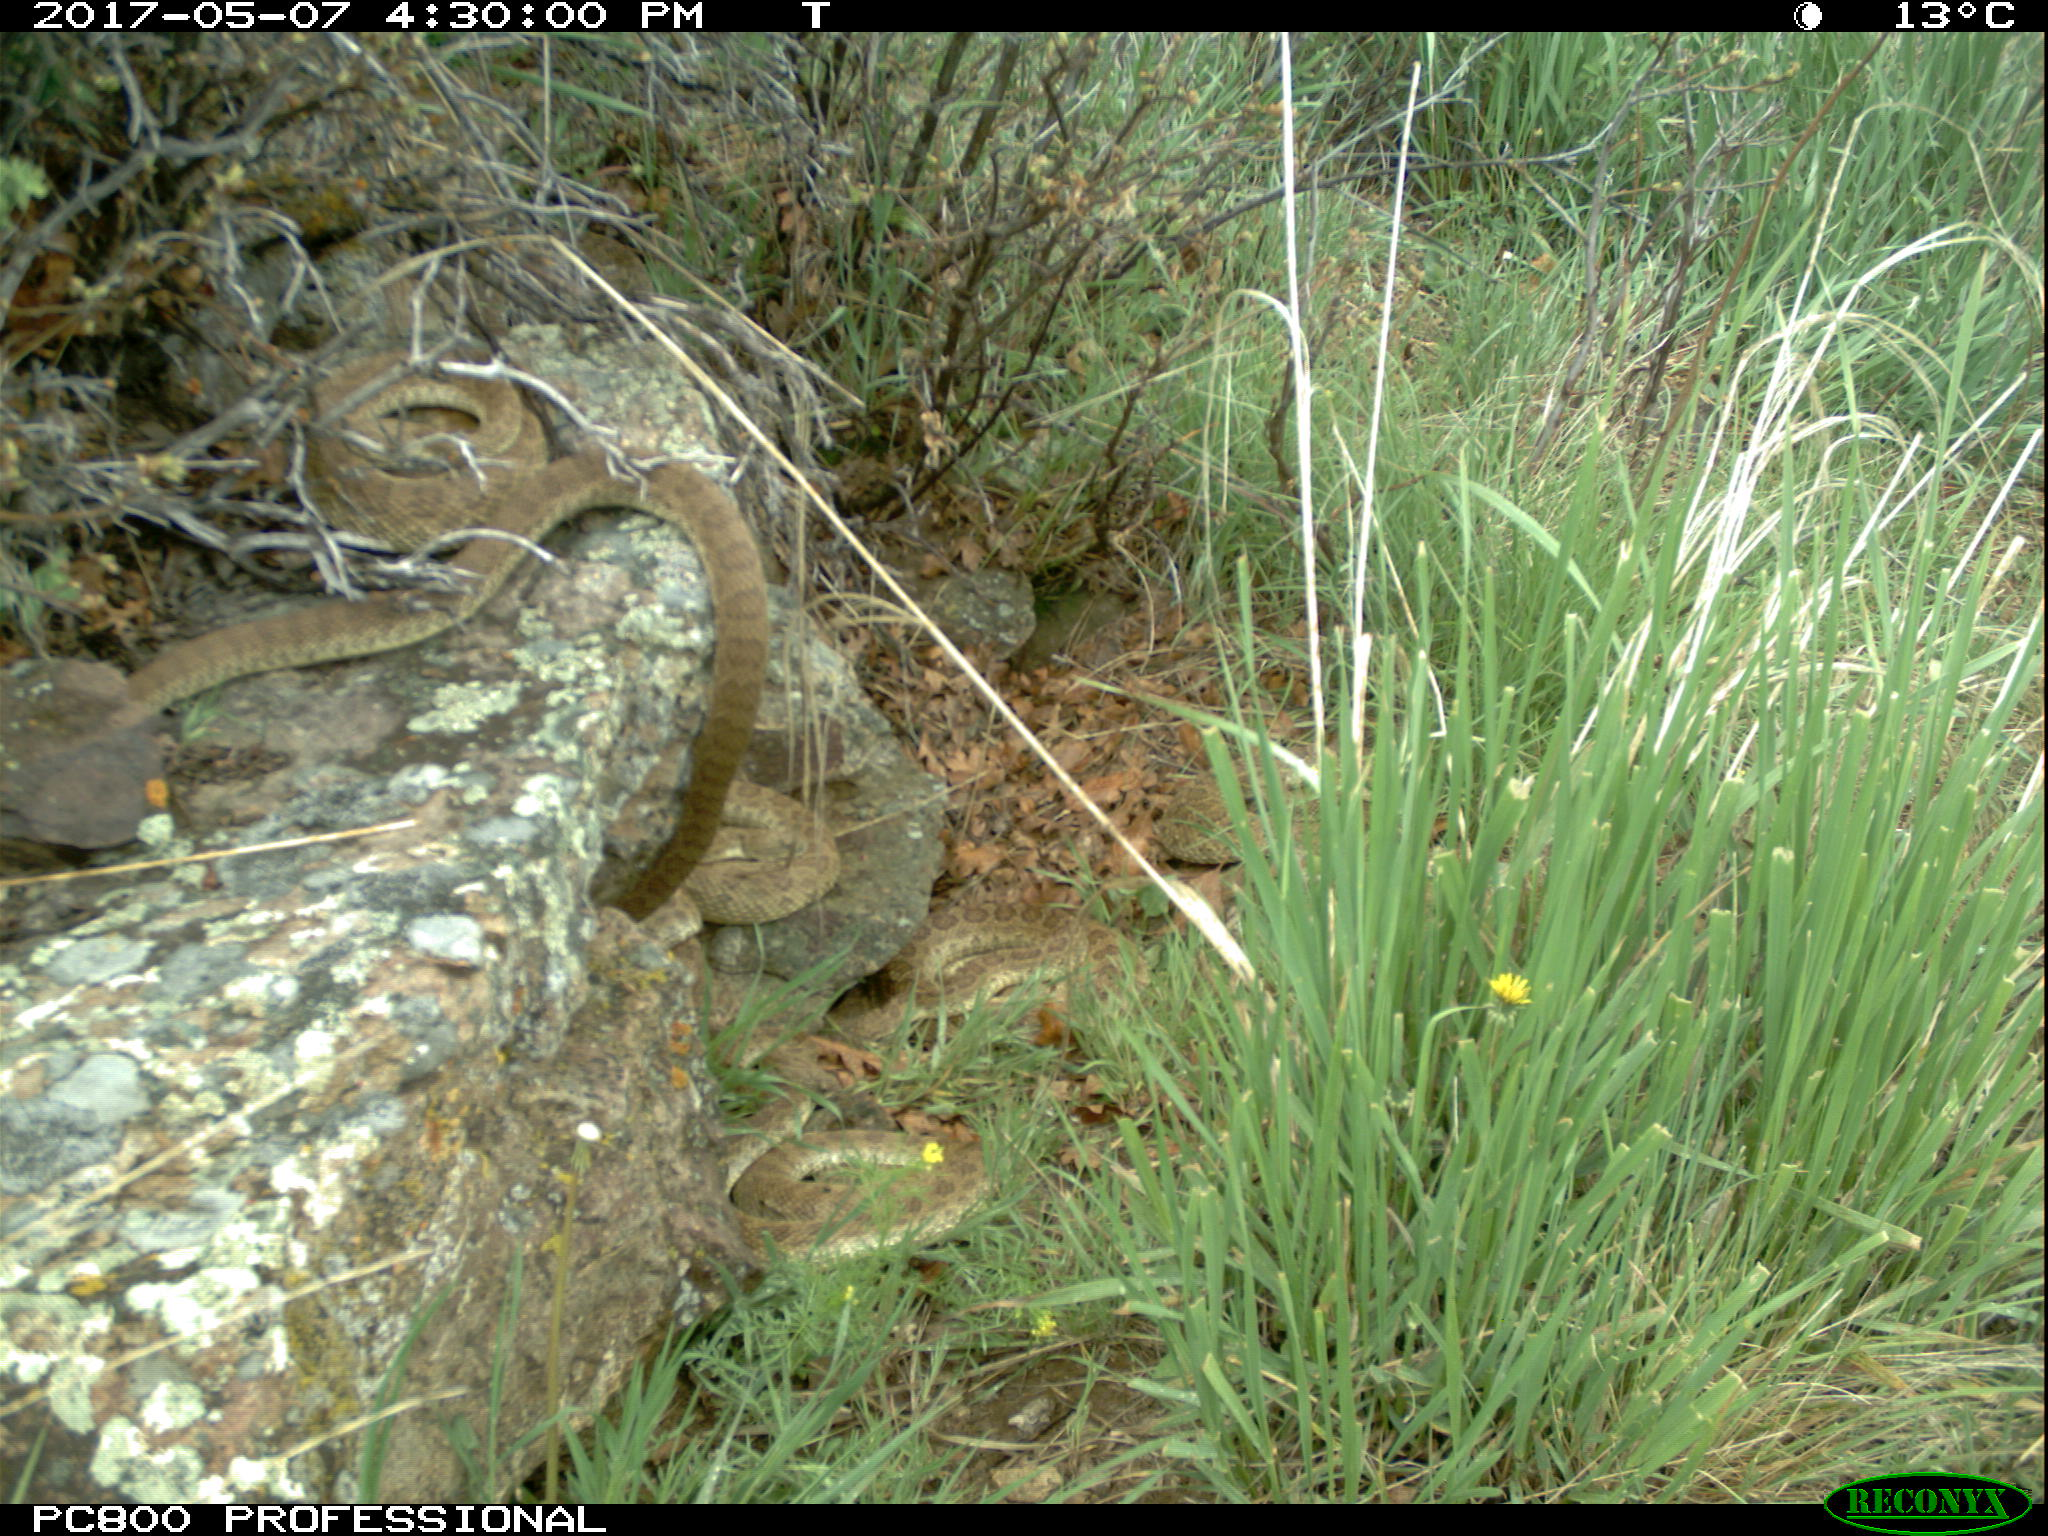snake: (576, 447, 761, 929), (98, 520, 556, 699), (718, 1042, 1018, 1265), (292, 337, 563, 537), (832, 904, 1150, 1042), (697, 766, 847, 925), (1164, 744, 1334, 870)
